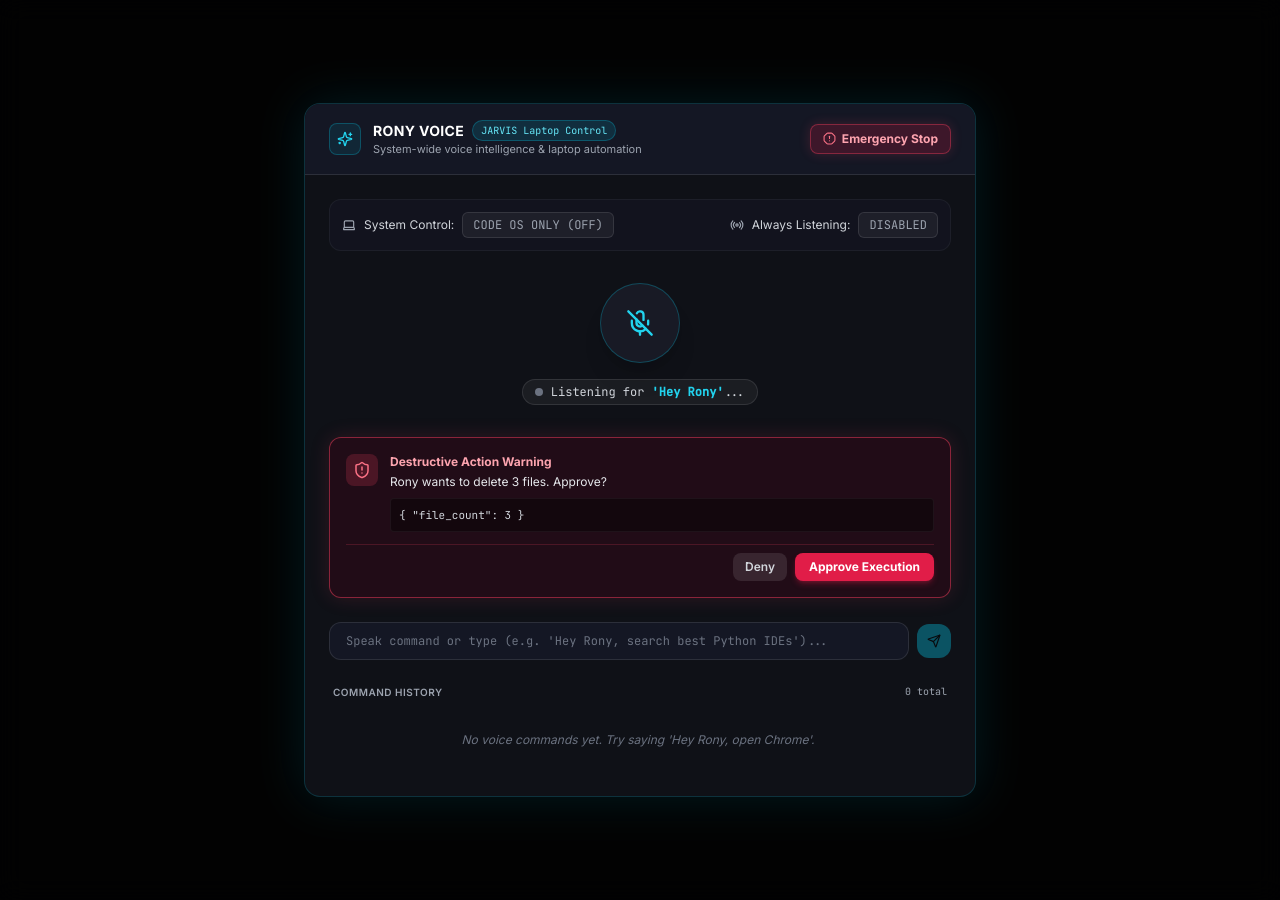
Test: Rony Voice Frontend Test Suite › test_approval_dialog_appears: displays approval modal with Approve/Deny buttons
Expected: the element with test id "approval-dialog" is shown, [329,436,951,598]
Expected: the element with test id "approval-dialog" shows "Destructive Action Warning", [390,454,552,468]
Denying clears approval and logs in history
Click the button with test id "reject-action-btn". click: point(760, 567)
box: [733,553,787,581]
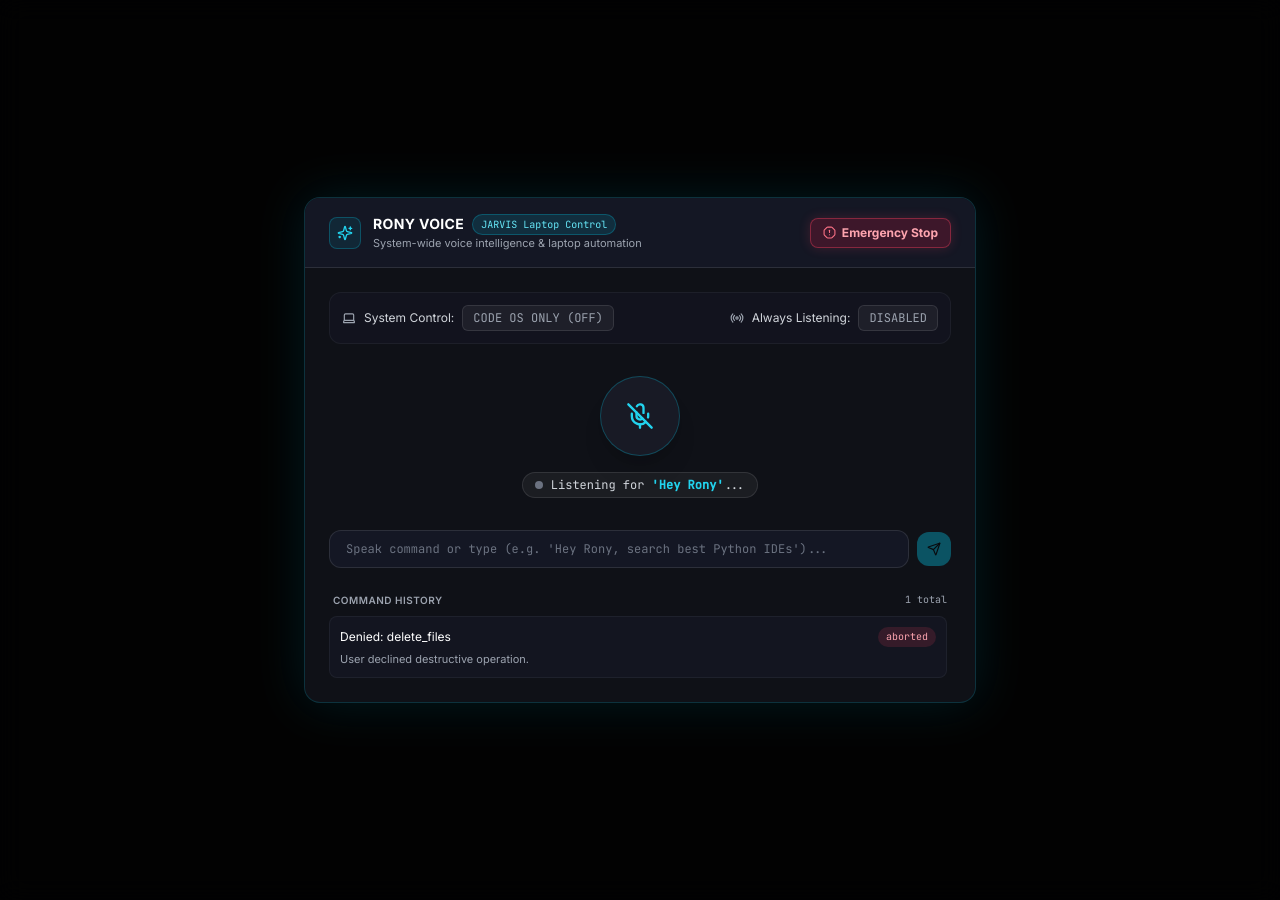
Now the text "aborted" is shown, box [878,627,936,647]
Now the text "Denied: delete_files" is shown, box [340,629,451,645]
